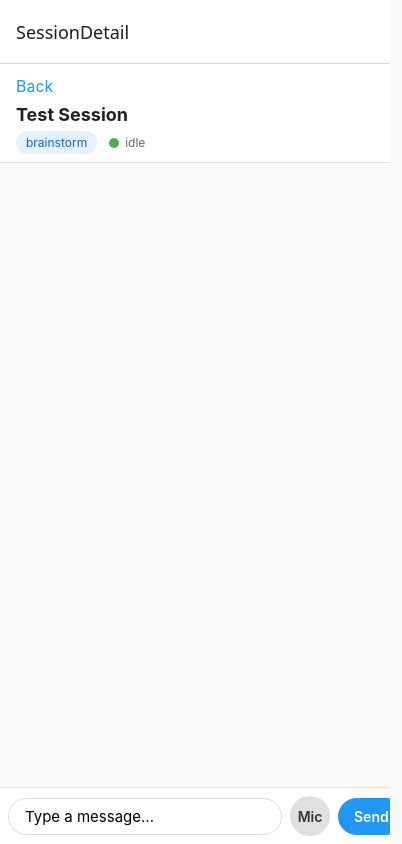
Scenario: SessionDetailScreen › sends a message when user types and taps send
Check: the text "Test Session" is shown, box [16, 104, 128, 125]
Type "Hello agent" into the field with test id "message-input" at (145, 816), box [8, 798, 282, 834]
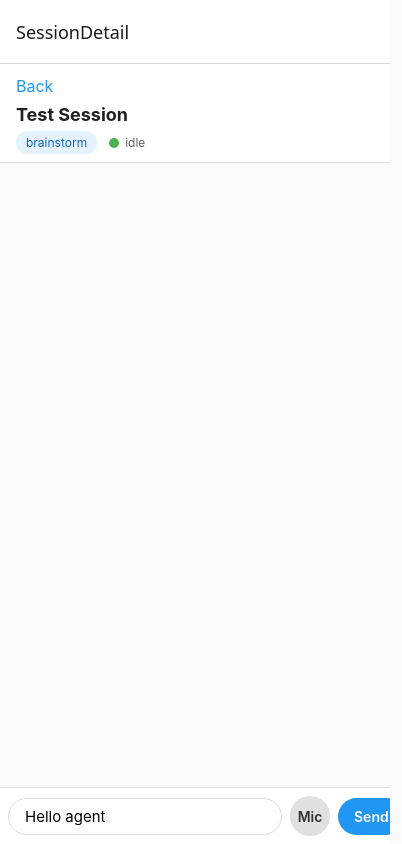
Click the element with test id "send-button" at (364, 816), box [338, 798, 390, 834]
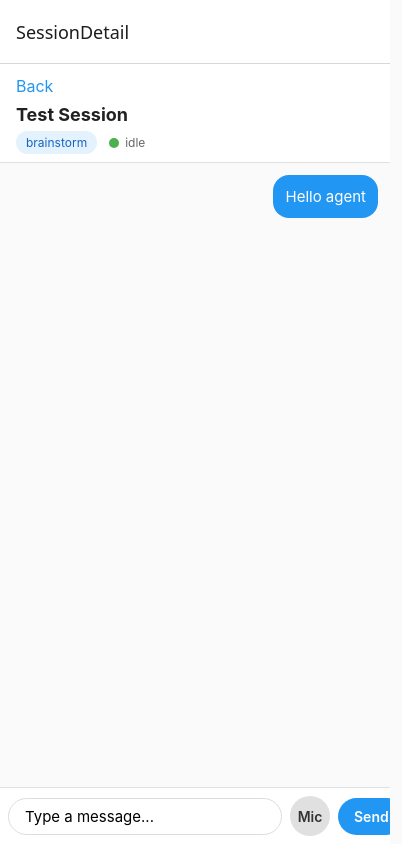
Check: the text "Hello agent" is shown, box [286, 187, 366, 206]
